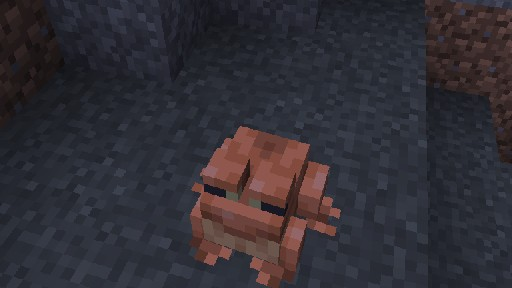frog: (188, 125, 341, 288)
